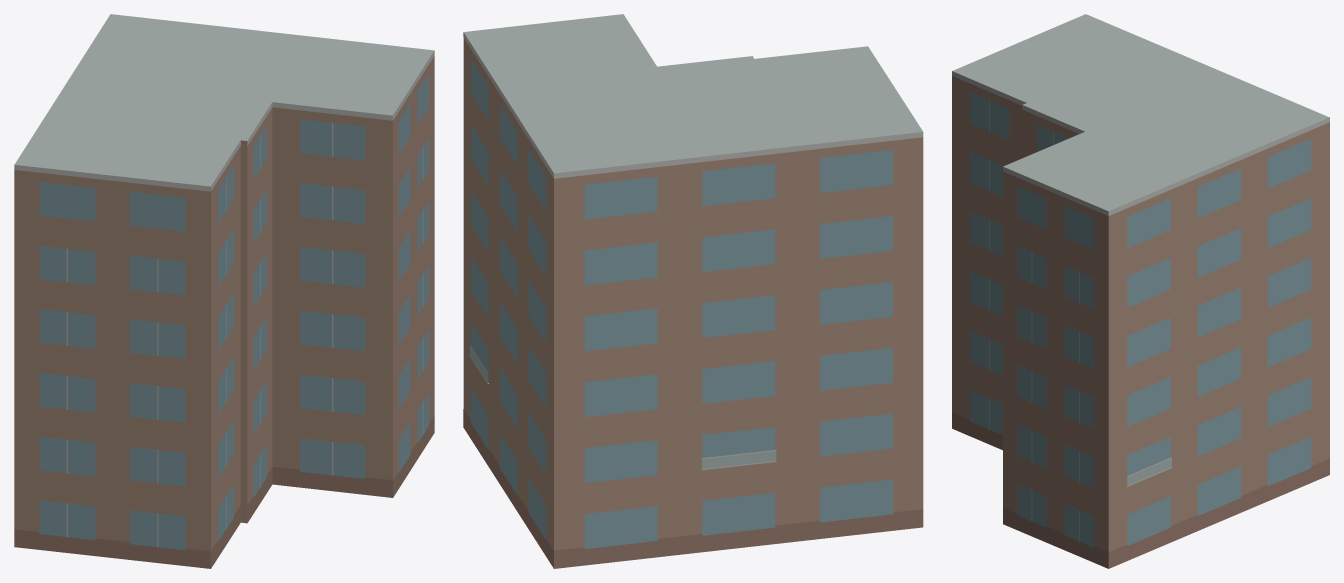
The model's file is survey-upis-32602676.glb.
3 views of the same model, side by side, from view 1: azimuth 30°, elevation 25°; view 2: azimuth 150°, elevation 25°; view 3: azimuth 270°, elevation 25° (orthographic). The views are drawn at different scales.
Parts seen in each view (by area): view 1: survey-upis-32602676.tmp; view 2: survey-upis-32602676.tmp; view 3: survey-upis-32602676.tmp.
Boxes of the visible parts, bbox=[...] form: survey-upis-32602676.tmp: bbox=[14, 14, 434, 568]; survey-upis-32602676.tmp: bbox=[463, 14, 923, 568]; survey-upis-32602676.tmp: bbox=[952, 14, 1329, 568].
Bounding box in the file's own units: 21.67 × 18.3 × 17.53.
